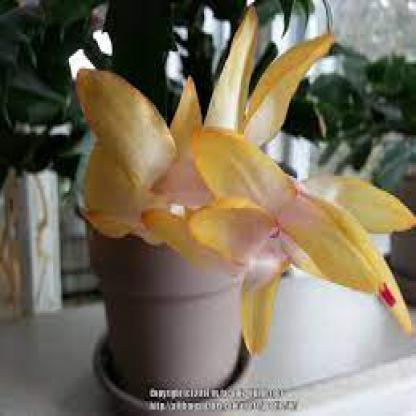Aglonema: (18, 79, 364, 228)
